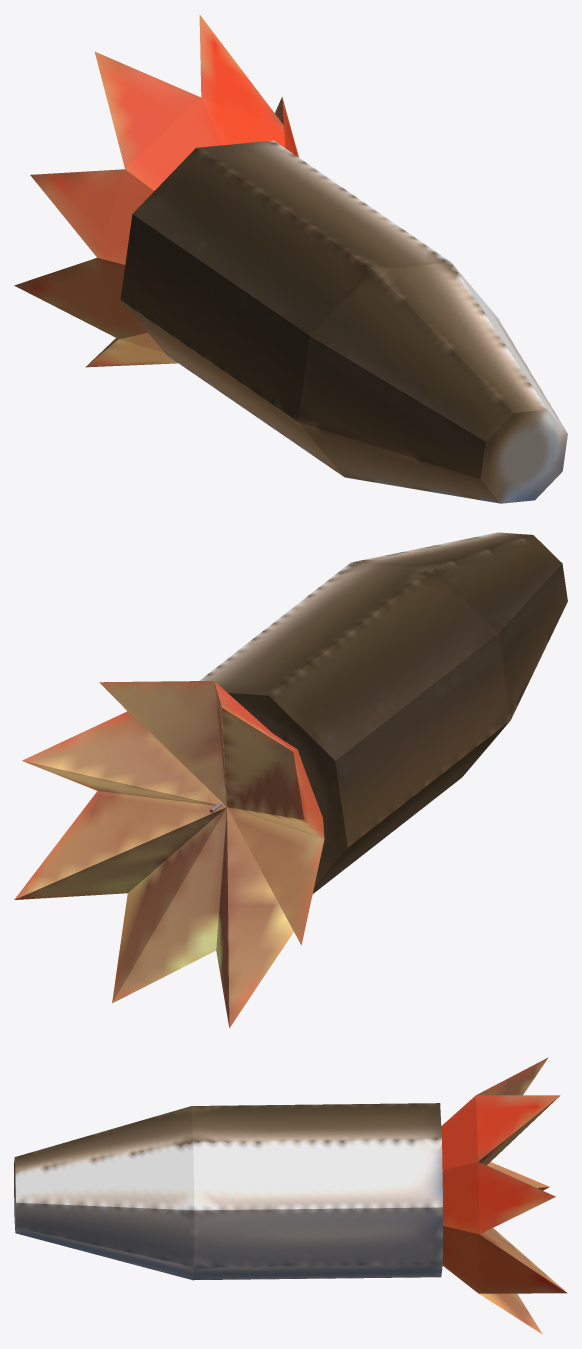
3 views of the same model, one above another, from view 1: azimuth 30°, elevation 25°; view 2: azimuth 150°, elevation 25°; view 3: azimuth 270°, elevation 25° (orthographic). The views are drawn at different scales.
Visible parts, largest first — view 1: Bala_Cylinder.003, Fogonazo_Cylinder.004; view 2: Bala_Cylinder.003, Fogonazo_Cylinder.004; view 3: Bala_Cylinder.003, Fogonazo_Cylinder.004.
Boxes of the visible parts, x1=… form: Bala_Cylinder.003: x1=120, y1=140, x2=567, y2=503; Fogonazo_Cylinder.004: x1=14, y1=15, x2=298, y2=367; Bala_Cylinder.003: x1=199, y1=532, x2=567, y2=893; Fogonazo_Cylinder.004: x1=14, y1=681, x2=324, y2=1027; Bala_Cylinder.003: x1=14, y1=1103, x2=442, y2=1280; Fogonazo_Cylinder.004: x1=441, y1=1057, x2=567, y2=1334.
Bounding box in the file's own units: 0.3651 × 0.418 × 0.8754.
